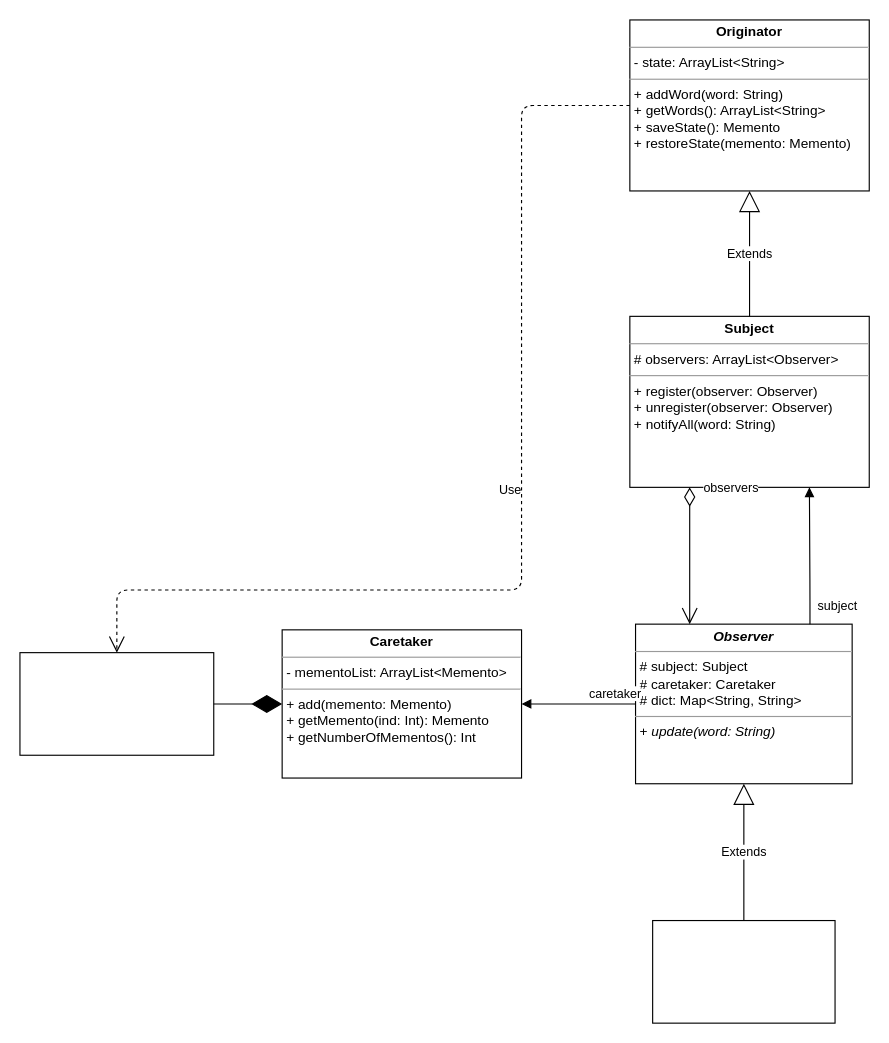
The diagram is 889 pixels wide and 1043 high, and some of its shapes have lost their labels. Here are the shapes that lost their labels. From the top down, the centre of each, then its label:
At (x=116, y=703): "Memento - state: Pair<Int, String> + getState(): Pair<Int, String>".
At (x=743, y=971): "ConcreteObserver".
